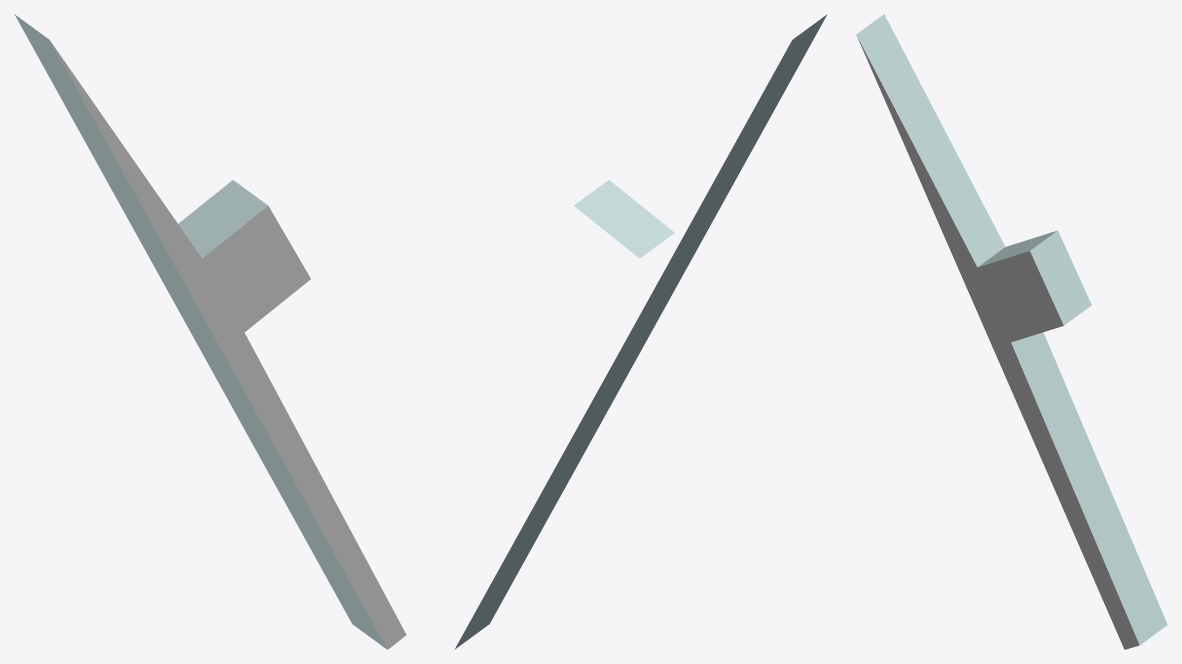
The picture shows the model from 3 angles, left to right: view 1: azimuth 30°, elevation 25°; view 2: azimuth 150°, elevation 25°; view 3: azimuth 330°, elevation 25°; orthographic projection. The views are drawn at different scales.
Parts seen in each view (by area): view 1: 0_3_1_0_2_2_1_0_2; view 2: 0_3_1_0_2_2_1_0_2; view 3: 0_3_1_0_2_2_1_0_2.
Boxes of the visible parts, x1,y1,x2,y2 form: 0_3_1_0_2_2_1_0_2: [14, 14, 406, 649]; 0_3_1_0_2_2_1_0_2: [454, 14, 827, 649]; 0_3_1_0_2_2_1_0_2: [856, 14, 1167, 649].
Size of the model in its own units: 17.5 by 32.43 by 3.
